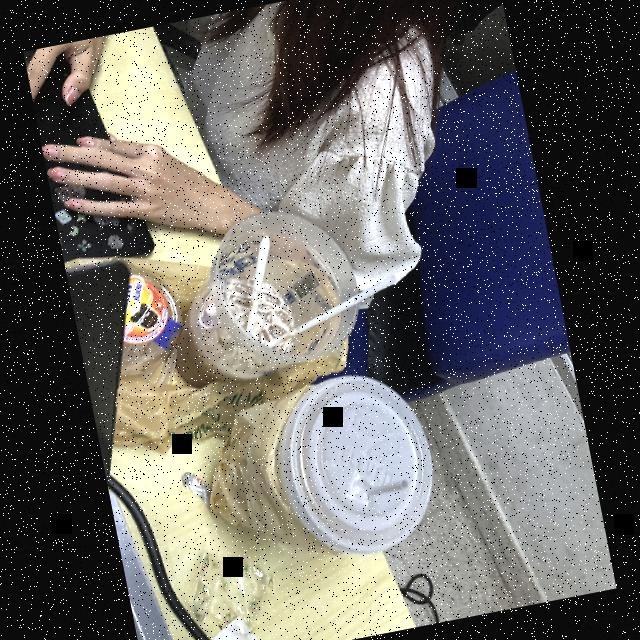plastic_bag: (64, 207, 365, 460)
plastic_cup: (147, 195, 374, 399), (192, 379, 358, 580), (90, 255, 188, 380)
plastic_cup_lid: (266, 358, 446, 570)
plastic_spoon: (226, 235, 292, 349)
scrap_paper: (167, 609, 275, 640)
scrap_plastic: (182, 538, 287, 640), (178, 465, 221, 509)
straw: (258, 272, 405, 350), (360, 470, 416, 508)
